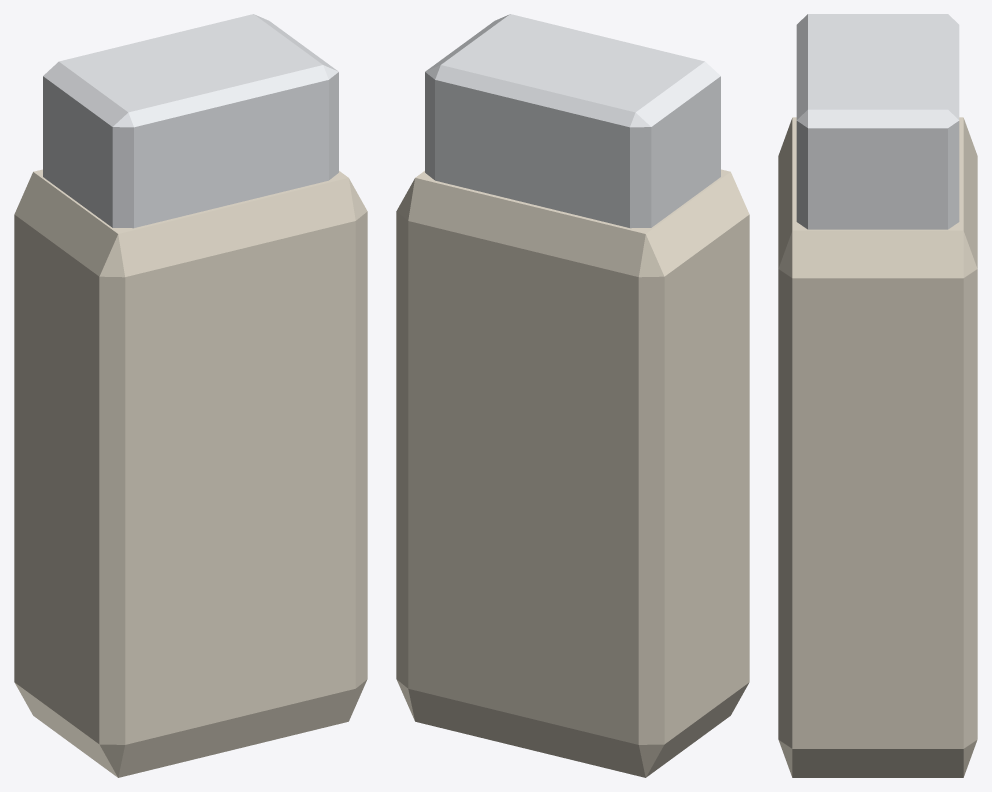
File: b17_diamond_flying_kite.glb
The picture shows the model from 3 angles, left to right: view 1: azimuth 30°, elevation 25°; view 2: azimuth 150°, elevation 25°; view 3: azimuth 270°, elevation 25°; orthographic projection.
Visible parts, largest first — view 1: b17_diamond_flying_kite; view 2: b17_diamond_flying_kite; view 3: b17_diamond_flying_kite.
Boxes of the visible parts, left/top/right/bottom form: b17_diamond_flying_kite: left=14, top=14, right=367, bottom=777; b17_diamond_flying_kite: left=396, top=14, right=749, bottom=777; b17_diamond_flying_kite: left=778, top=14, right=977, bottom=777.
Bounding box in the file's own units: 0.64 × 1.5 × 0.409.
